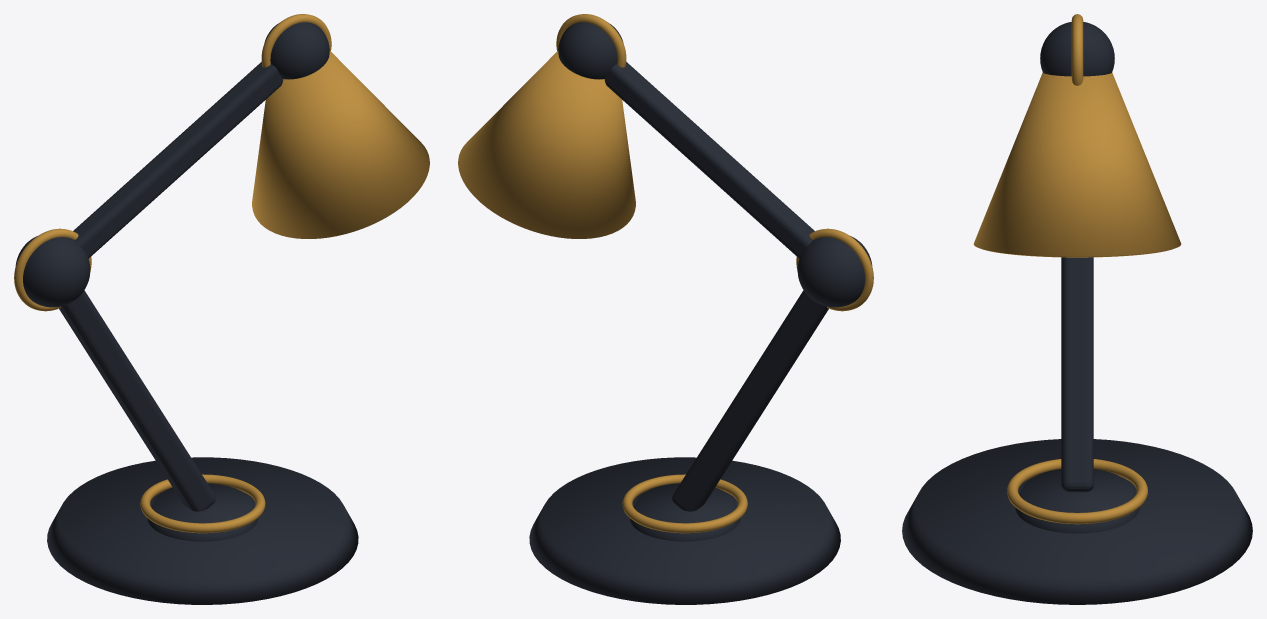
The model's file is lamp.glb.
The picture shows the model from 3 angles, left to right: view 1: azimuth 30°, elevation 25°; view 2: azimuth 150°, elevation 25°; view 3: azimuth 270°, elevation 25°; orthographic projection. The views are drawn at different scales.
Visible parts, largest first — view 1: base-body, shade-outer, upper-arm-body, lower-arm-body, lower-joint-sphere, base-collar, upper-joint-sphere, base-ring, lower-joint-ring, upper-joint-ring; view 2: base-body, shade-outer, upper-arm-body, lower-arm-body, lower-joint-sphere, base-collar, upper-joint-sphere, base-ring, lower-joint-ring, upper-joint-ring; view 3: base-body, shade-outer, lower-arm-body, base-collar, base-ring, upper-joint-sphere, upper-joint-ring.
Part boxes in pixels (left/top/right/bottom): base-body: left=47, top=457, right=358, bottom=604; shade-outer: left=252, top=51, right=429, bottom=238; upper-arm-body: left=73, top=62, right=283, bottom=258; lower-arm-body: left=59, top=290, right=215, bottom=511; lower-joint-sphere: left=15, top=236, right=90, bottom=307; base-collar: left=147, top=483, right=258, bottom=541; upper-joint-sphere: left=264, top=22, right=329, bottom=79; base-ring: left=140, top=474, right=265, bottom=533; lower-joint-ring: left=14, top=228, right=91, bottom=311; upper-joint-ring: left=261, top=14, right=331, bottom=67; base-body: left=529, top=457, right=840, bottom=604; shade-outer: left=458, top=51, right=635, bottom=238; upper-arm-body: left=604, top=62, right=814, bottom=258; lower-arm-body: left=672, top=290, right=828, bottom=511; lower-joint-sphere: left=797, top=236, right=872, bottom=307; base-collar: left=629, top=483, right=740, bottom=541; upper-joint-sphere: left=558, top=22, right=623, bottom=79; base-ring: left=622, top=474, right=747, bottom=533; lower-joint-ring: left=796, top=228, right=873, bottom=311; upper-joint-ring: left=556, top=14, right=626, bottom=67; base-body: left=902, top=439, right=1252, bottom=604; shade-outer: left=973, top=72, right=1181, bottom=257; lower-arm-body: left=1061, top=257, right=1093, bottom=492; base-collar: left=1015, top=469, right=1139, bottom=533; base-ring: left=1007, top=459, right=1147, bottom=524; upper-joint-sphere: left=1040, top=22, right=1114, bottom=76; upper-joint-ring: left=1071, top=14, right=1083, bottom=85.
Size of the model in its own units: 3.22 by 3.83 by 2.16.
